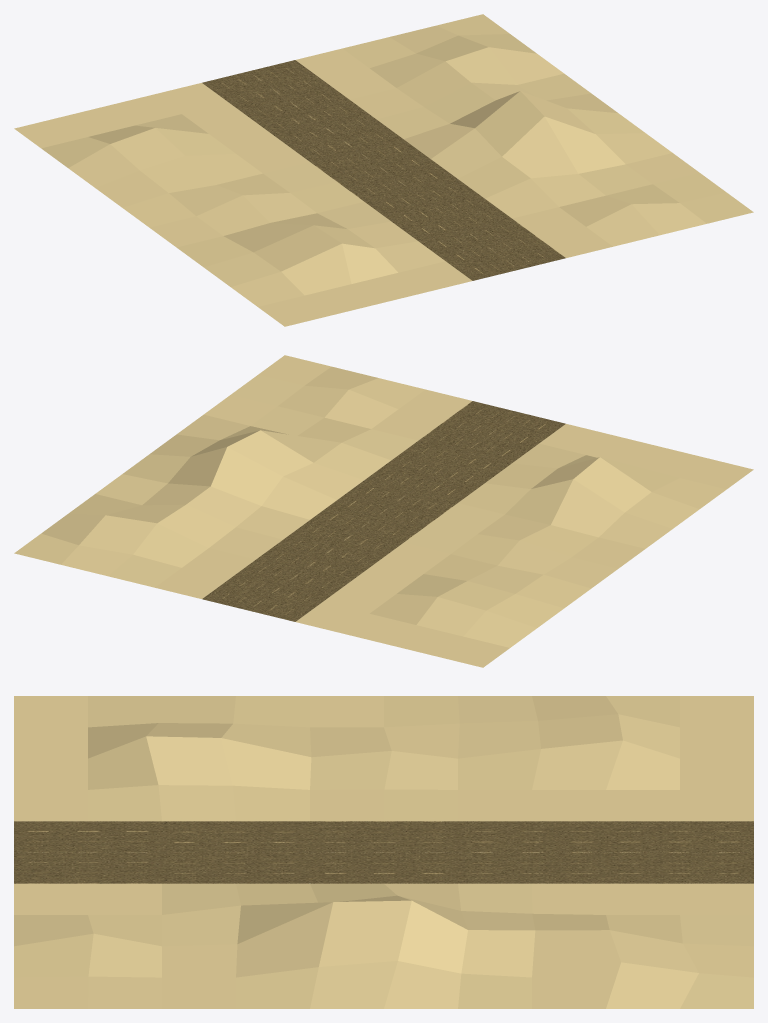
The model's file is Terrain.fbx.
The picture shows the model from 3 angles, top to bottom: view 1: azimuth 30°, elevation 25°; view 2: azimuth 150°, elevation 25°; view 3: azimuth 270°, elevation 25°; orthographic projection. The views are drawn at different scales.
Parts seen in each view (by area): view 1: Terrain; view 2: Terrain; view 3: Terrain.
Part boxes in pixels (left/top/right/bottom): Terrain: left=14, top=14, right=753, bottom=326; Terrain: left=14, top=355, right=753, bottom=667; Terrain: left=14, top=696, right=753, bottom=1008.
Size of the model in its own units: 50 by 3.7 by 50.
